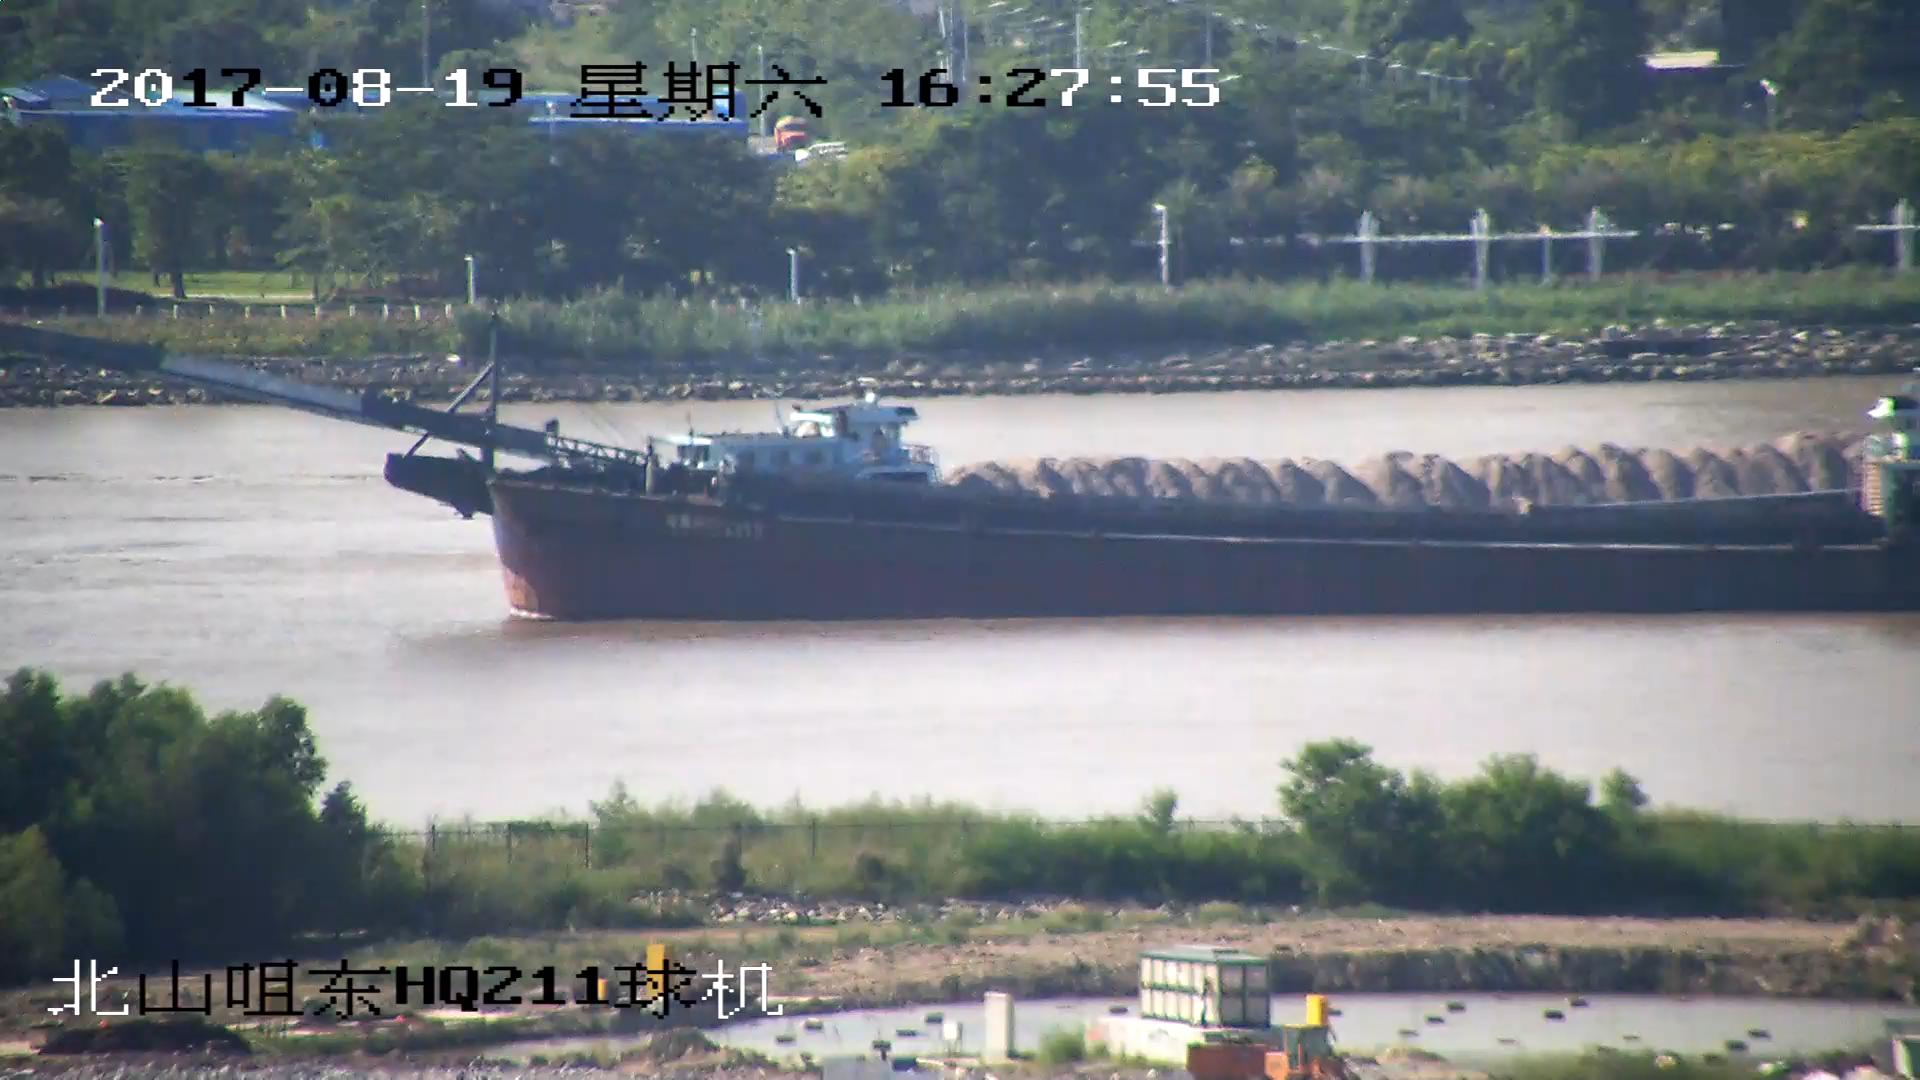bulk cargo carrier: (5, 315, 1919, 617)
ore carrier: (374, 437, 1920, 537)
